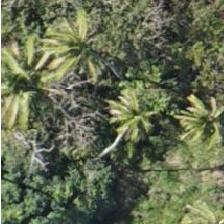coconut_tree: (77, 76, 167, 166), (39, 0, 129, 88), (0, 47, 76, 137), (168, 88, 223, 178)
